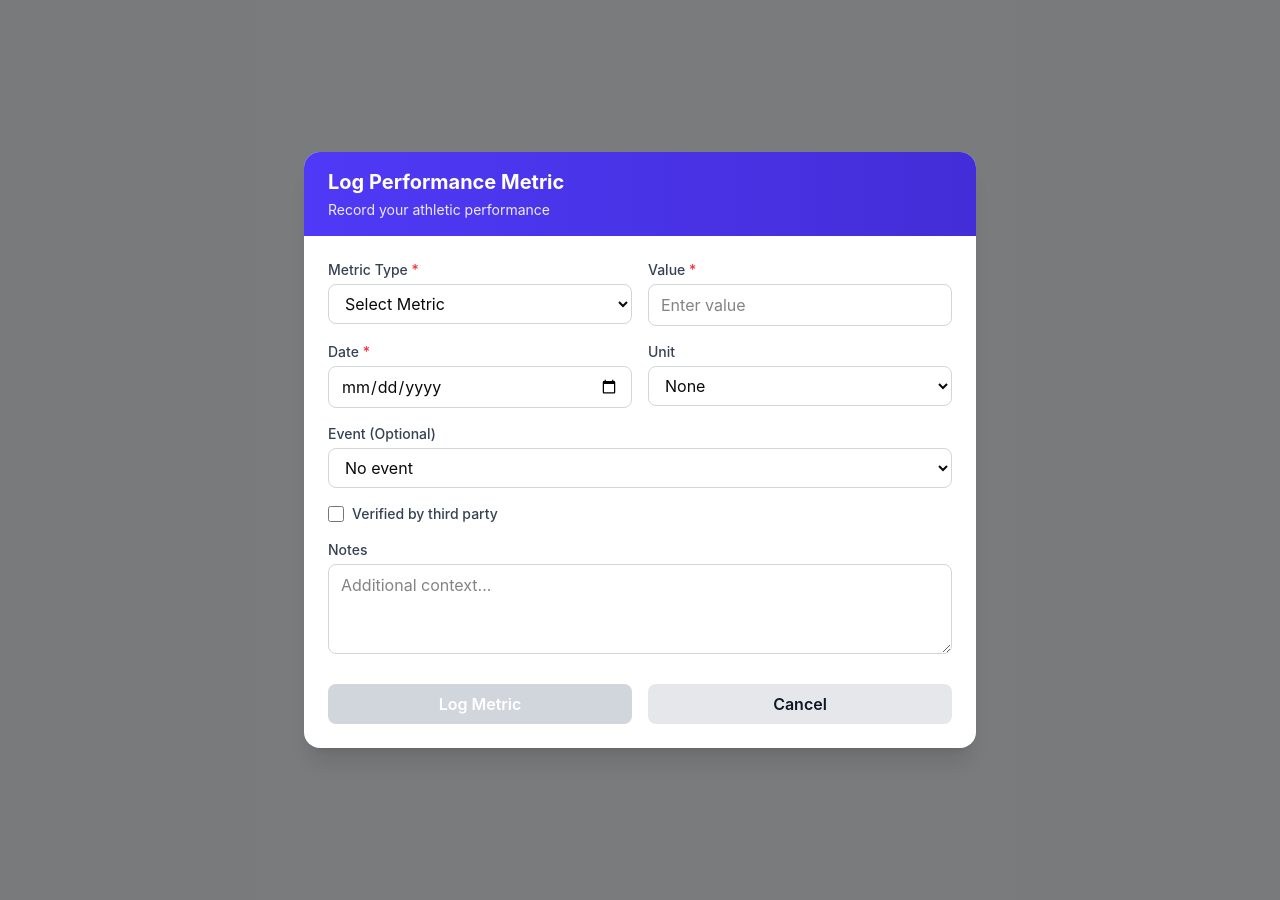
Scenario: LogMetricModal - Form Fields › auto-sets and locks the unit for a fixed metric type
Select "Fastball Velocity" in the dropdown with id "metricType" at point(480, 304), box x1=328 y1=284 x2=632 y2=324
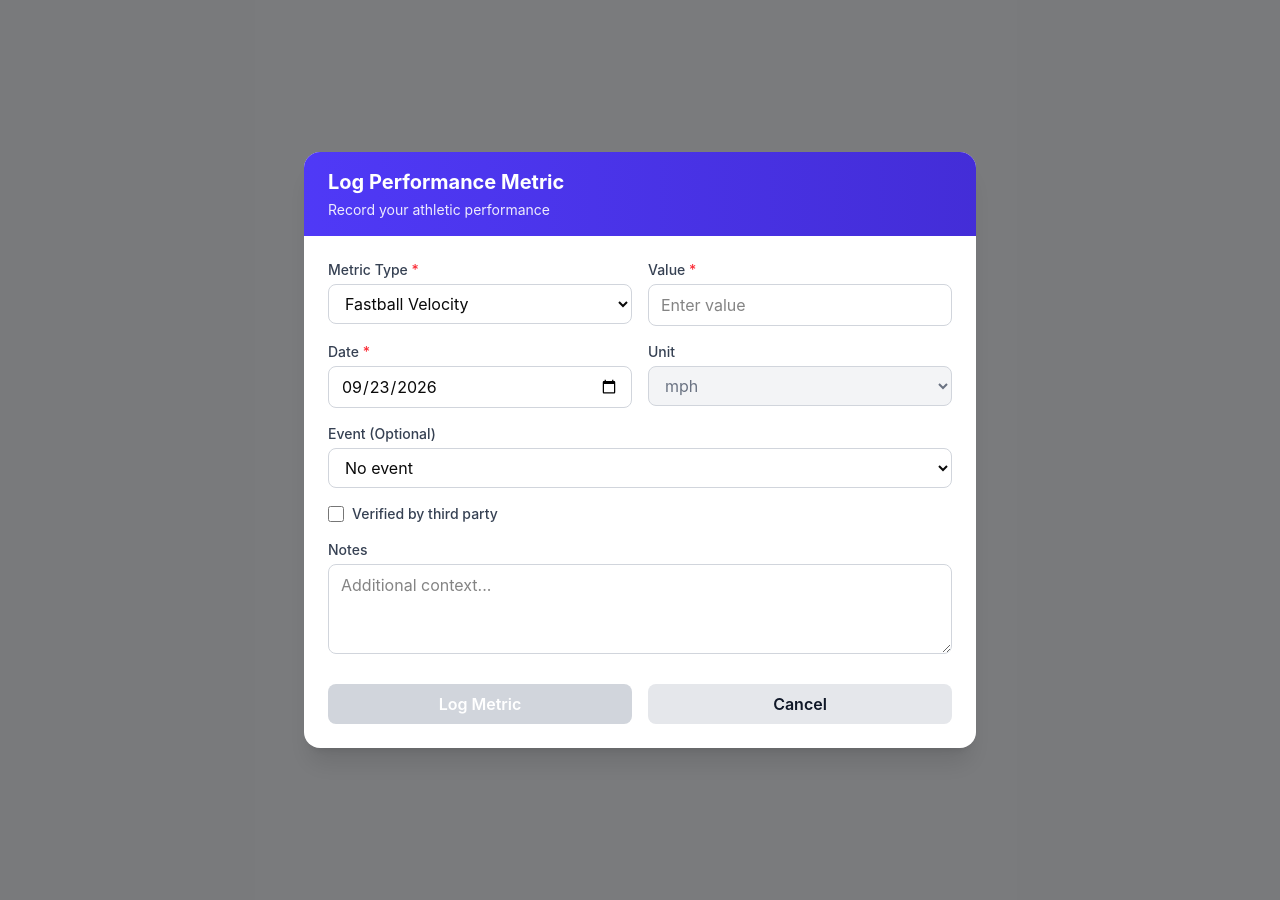
Now the dropdown with id "unit" shows "mph", box x1=648 y1=366 x2=952 y2=406
Now the dropdown with id "unit" is disabled, box x1=648 y1=366 x2=952 y2=406
